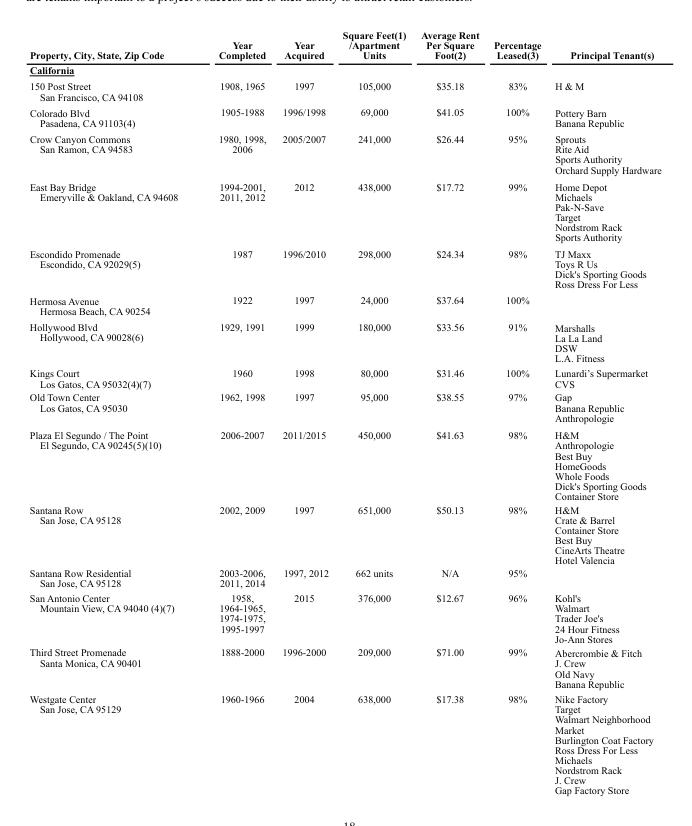table: (28, 28, 660, 795)
table column: (28, 28, 197, 795), (547, 28, 660, 795), (334, 28, 412, 795), (197, 28, 273, 795), (412, 28, 485, 795), (485, 28, 547, 795), (273, 28, 334, 795)
table column header: (28, 28, 660, 62)
table projected row header: (28, 62, 660, 77)
table row: (28, 691, 660, 795), (28, 426, 660, 502), (28, 177, 660, 244), (28, 502, 660, 566), (28, 590, 660, 645), (28, 130, 660, 177), (28, 244, 660, 291), (28, 318, 660, 365), (28, 645, 660, 691), (28, 390, 660, 426), (28, 28, 660, 62), (28, 103, 660, 130), (28, 291, 660, 318), (28, 77, 660, 103), (28, 365, 660, 390), (28, 566, 660, 590), (28, 62, 660, 77)
